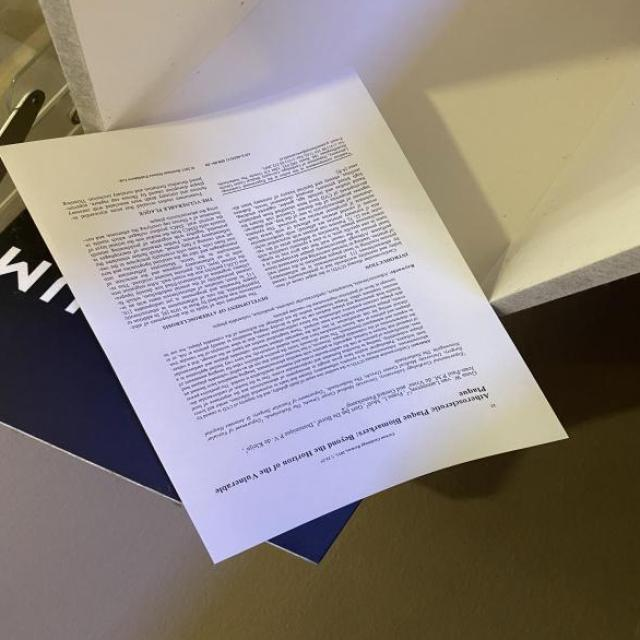kertas: (0, 0, 568, 610)
